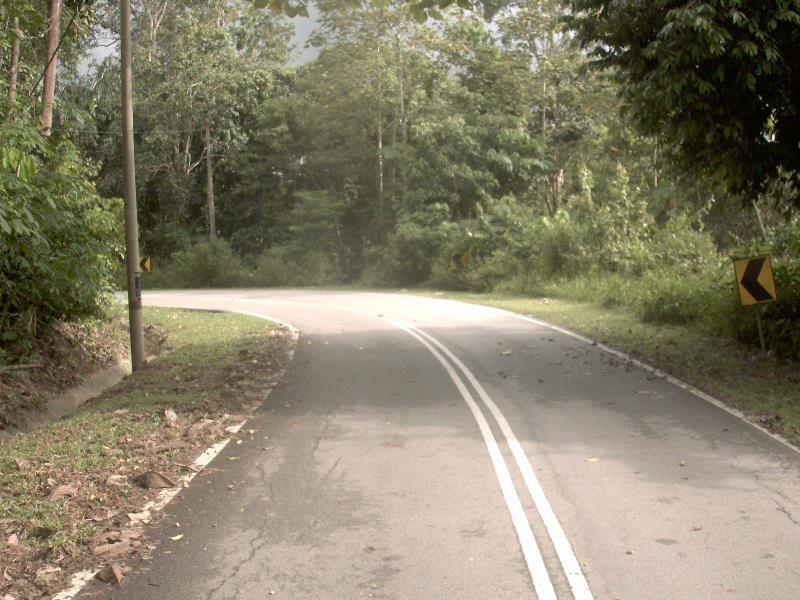traffic_sign: (726, 246, 785, 317)
